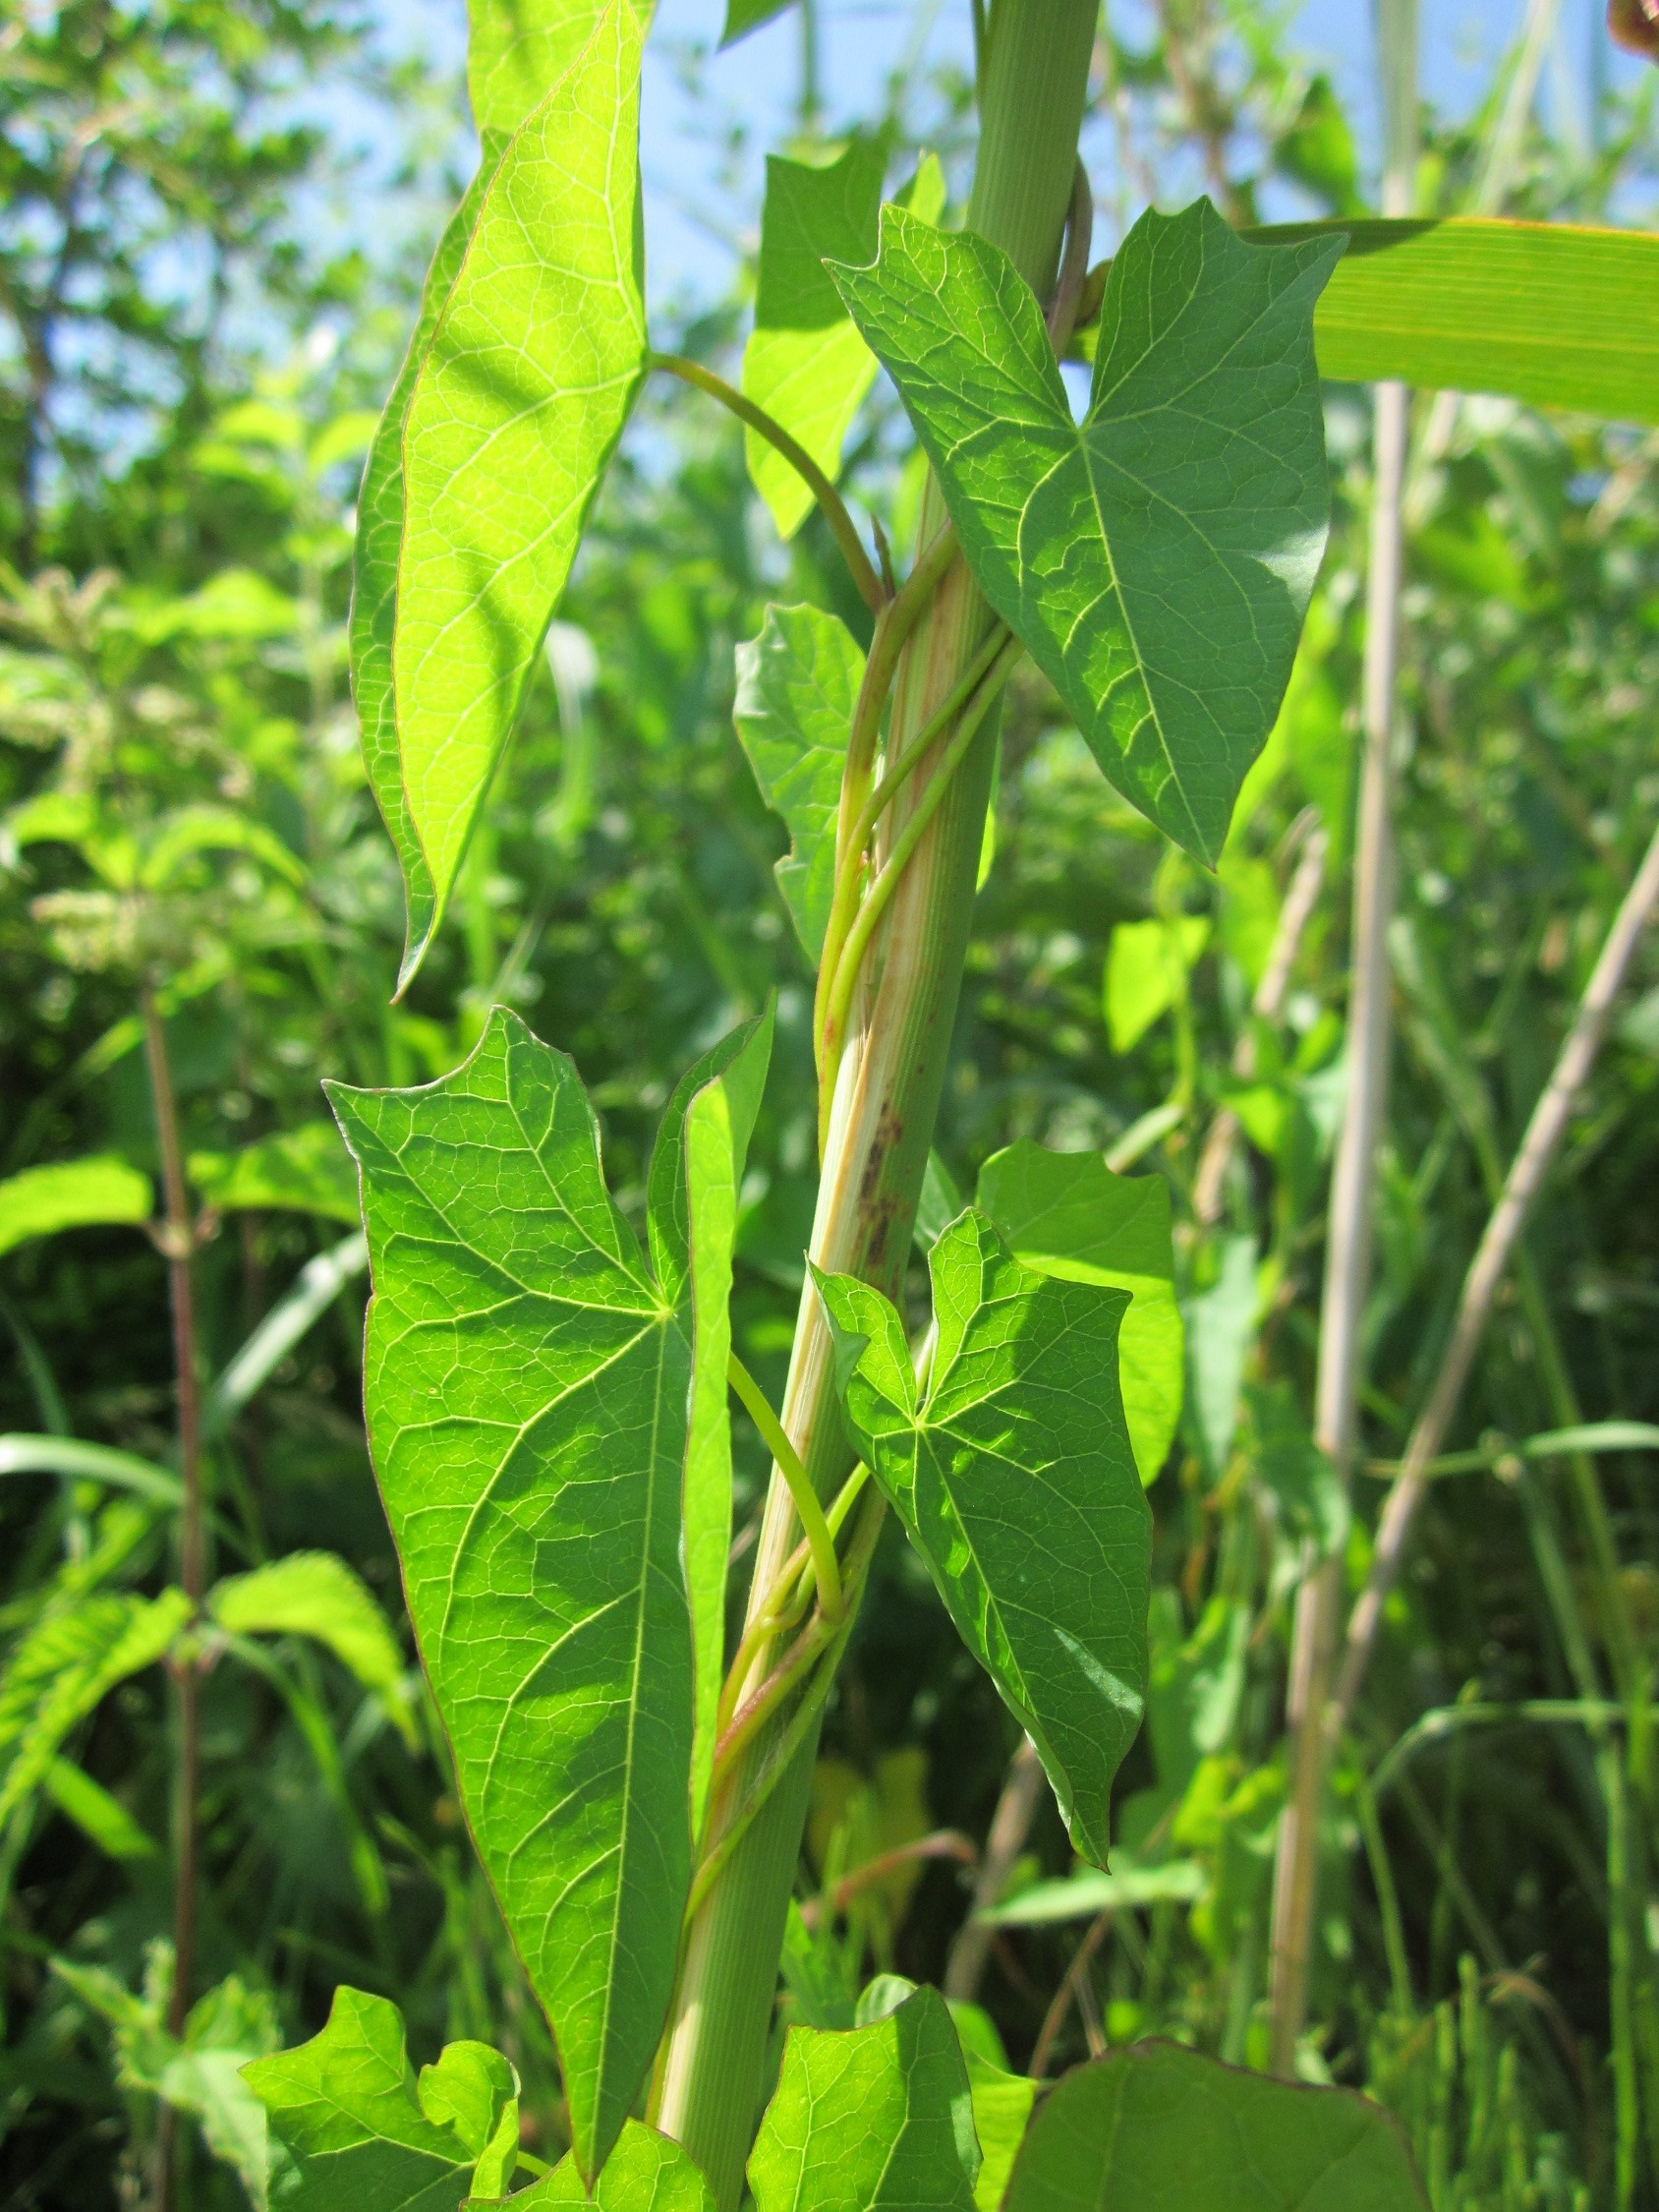haagwinde: (279, 994, 781, 2200), (796, 181, 1434, 948), (788, 1137, 1263, 1931), (310, 3, 674, 1035)
